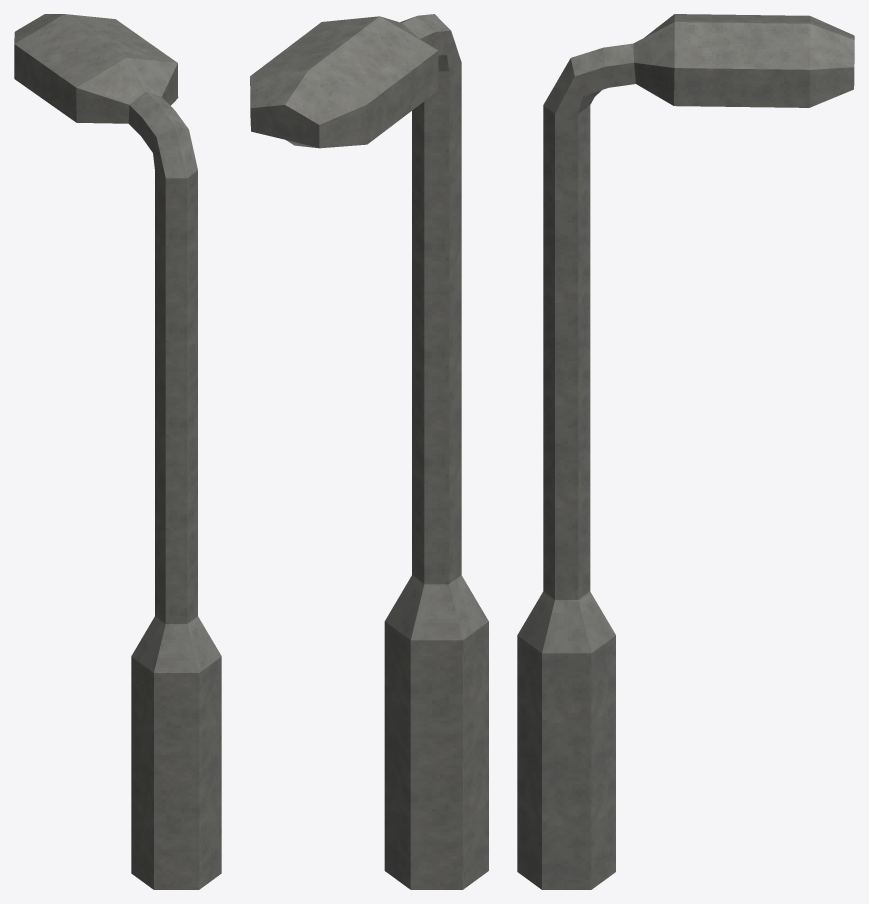
File: LampPost.fbx
The picture shows the model from 3 angles, left to right: view 1: azimuth 30°, elevation 25°; view 2: azimuth 150°, elevation 25°; view 3: azimuth 270°, elevation 25°; orthographic projection. The views are drawn at different scales.
Parts seen in each view (by area): view 1: Cylinder; view 2: Cylinder; view 3: Cylinder.
Part boxes in pixels (x1,y1,x2,y2): Cylinder: [14, 14, 221, 889]; Cylinder: [250, 14, 488, 889]; Cylinder: [517, 14, 854, 889].
Size of the model in its own units: 252 by 665 by 1849.
